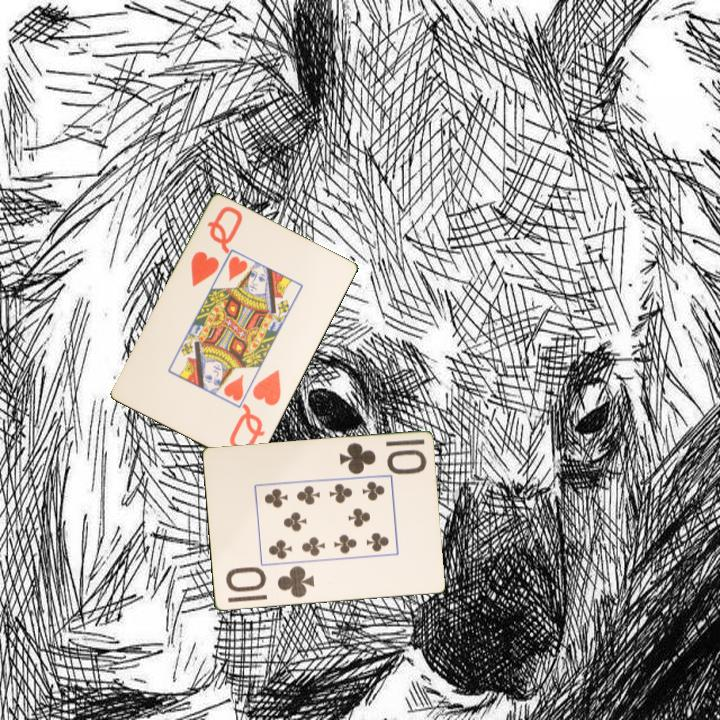10c: (222, 563, 317, 601), (335, 439, 429, 477)
Qh: (187, 203, 246, 290), (226, 367, 284, 455)
